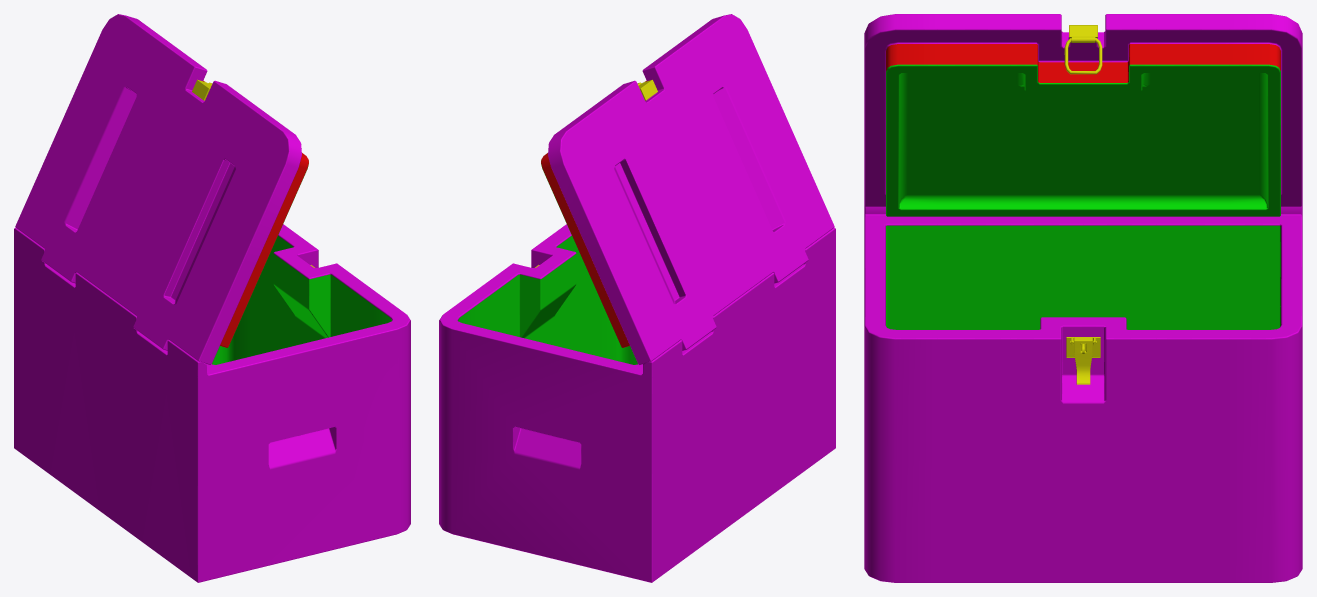
The model's file is IceBox.fbx.
The picture shows the model from 3 angles, left to right: view 1: azimuth 30°, elevation 25°; view 2: azimuth 150°, elevation 25°; view 3: azimuth 270°, elevation 25°; orthographic projection. The views are drawn at different scales.
Parts seen in each view (by area): view 1: ice Box; view 2: ice Box; view 3: ice Box.
Part boxes in pixels (box(x1,y1,x2,y2)): ice Box: box(14, 14, 410, 582); ice Box: box(439, 14, 835, 582); ice Box: box(864, 14, 1302, 582).
Size of the model in its own units: 41.14 by 72.73 by 58.
